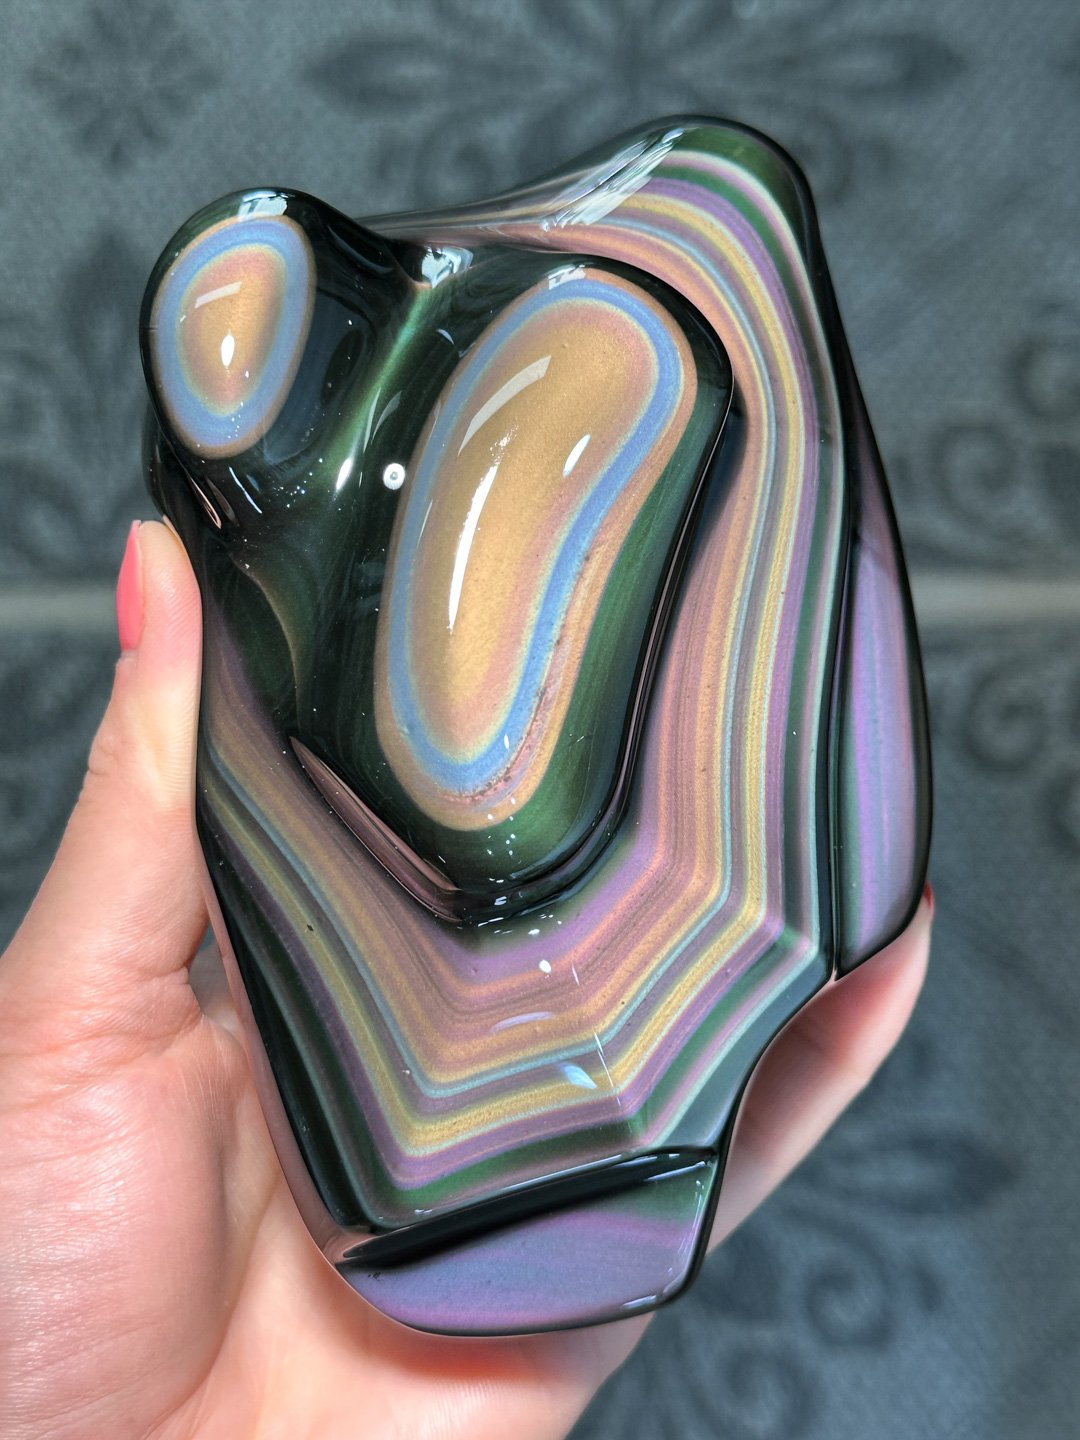Obsidian: (150, 119, 930, 1327)
